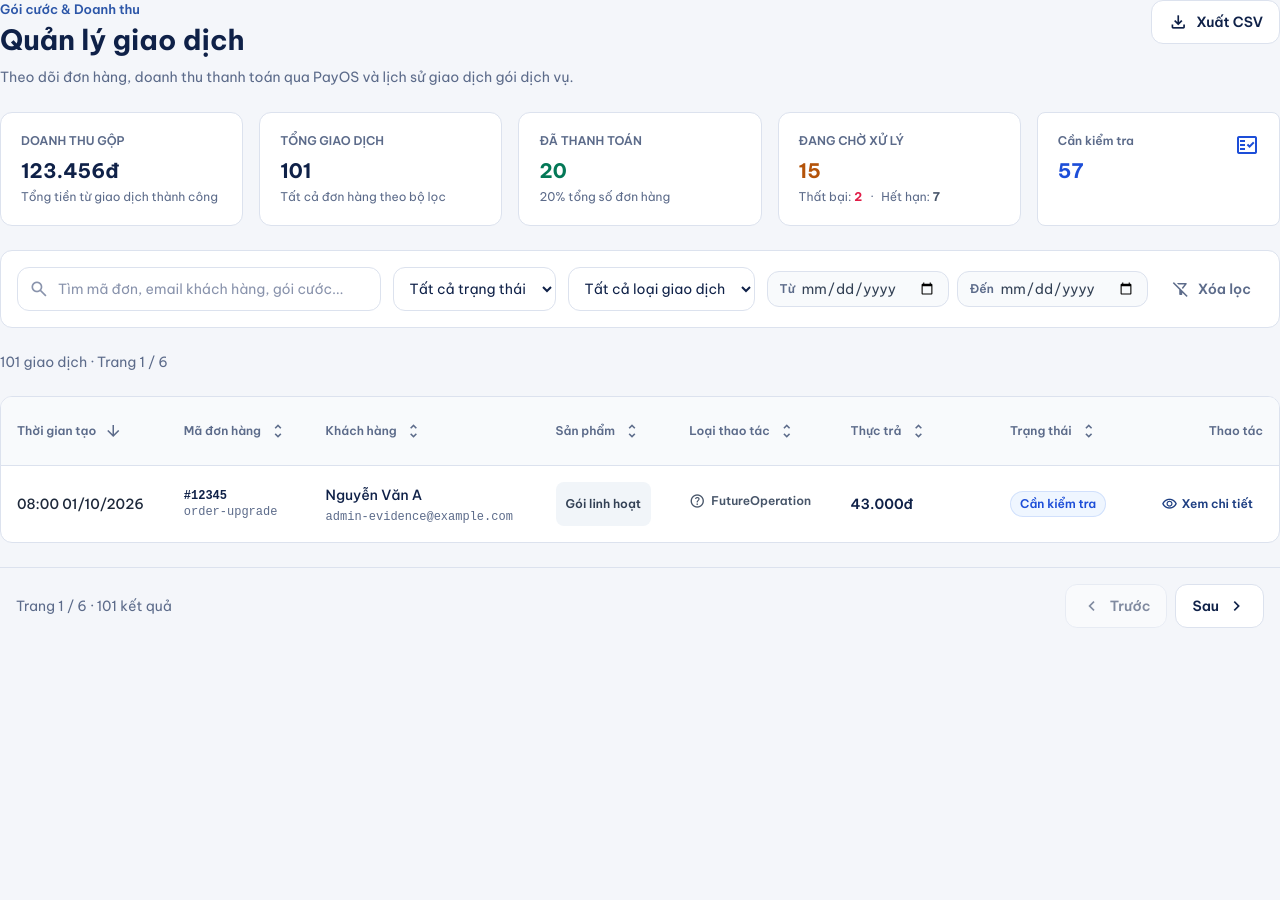
Scenario: FE-UP5 admin financial evidence A01-A50 › A07 unknown operation remains a neutral raw label, not Purchase
Click the button "Xem chi tiết". click: (1207, 504)
box: [1152, 484, 1263, 524]
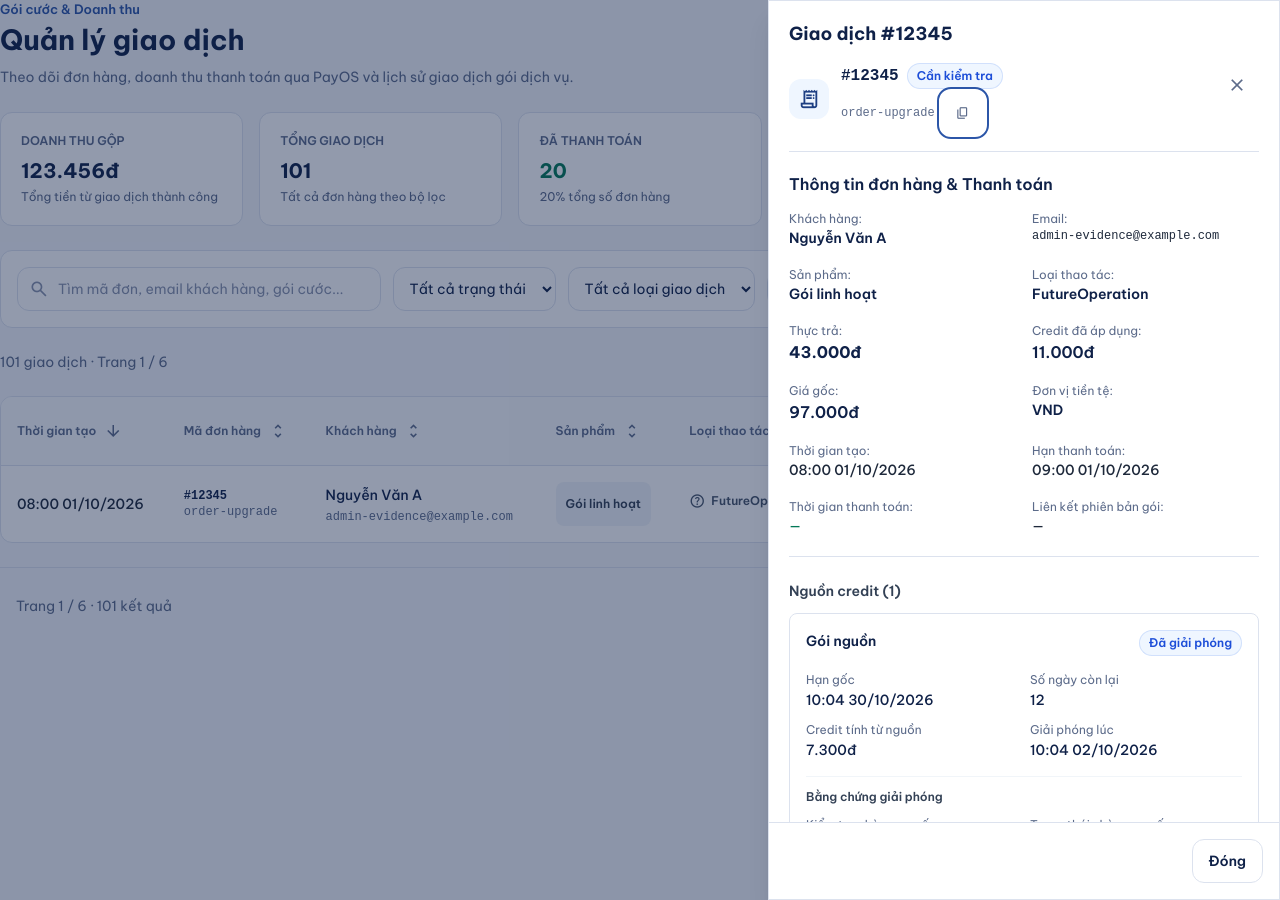
Check: the text "FutureOperation" is shown, box [1032, 285, 1148, 303]
